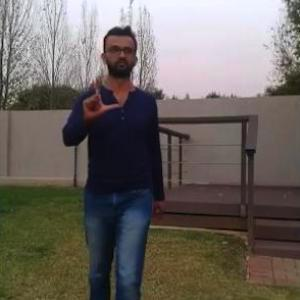land_hand: (78, 68, 121, 120)
